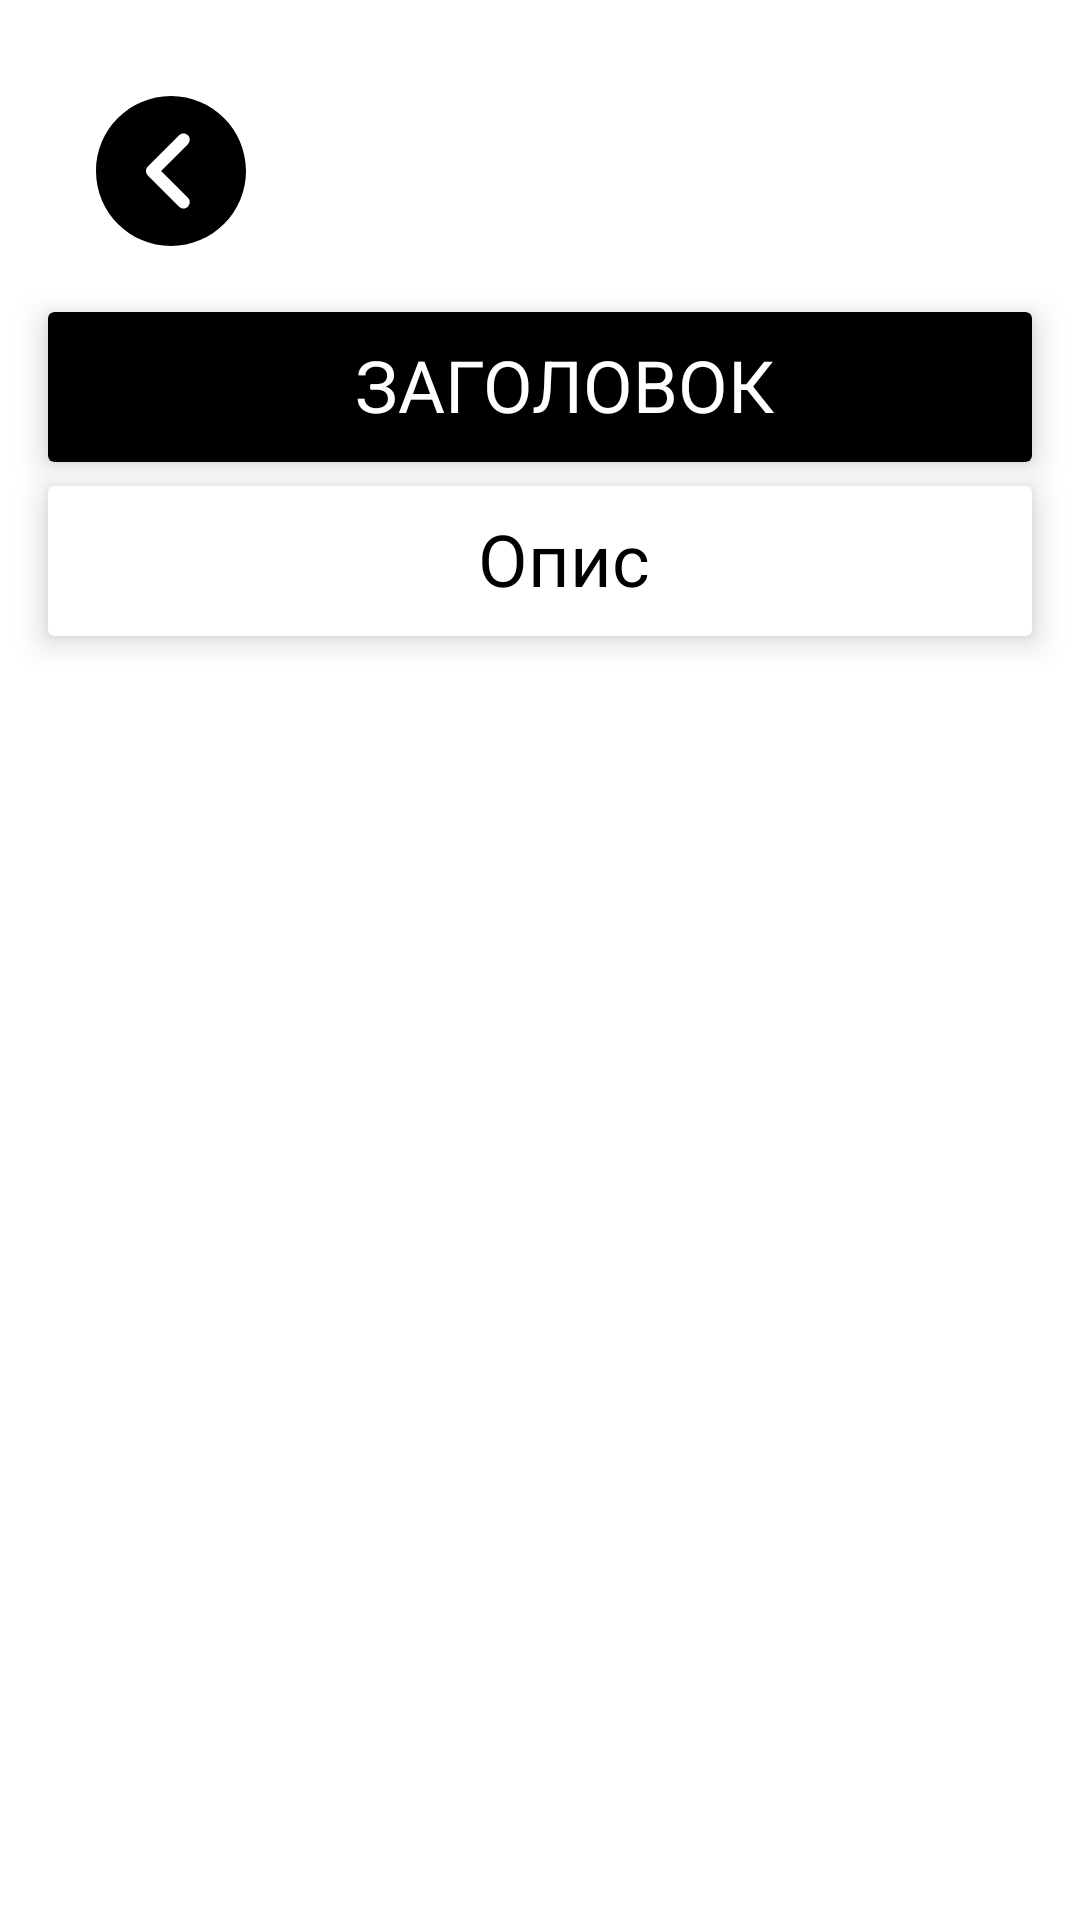

Icons on this 1080 × 1920 Android screen, each with the point to tap as (x=x, y=y):
left arrow: (x=171, y=171)
